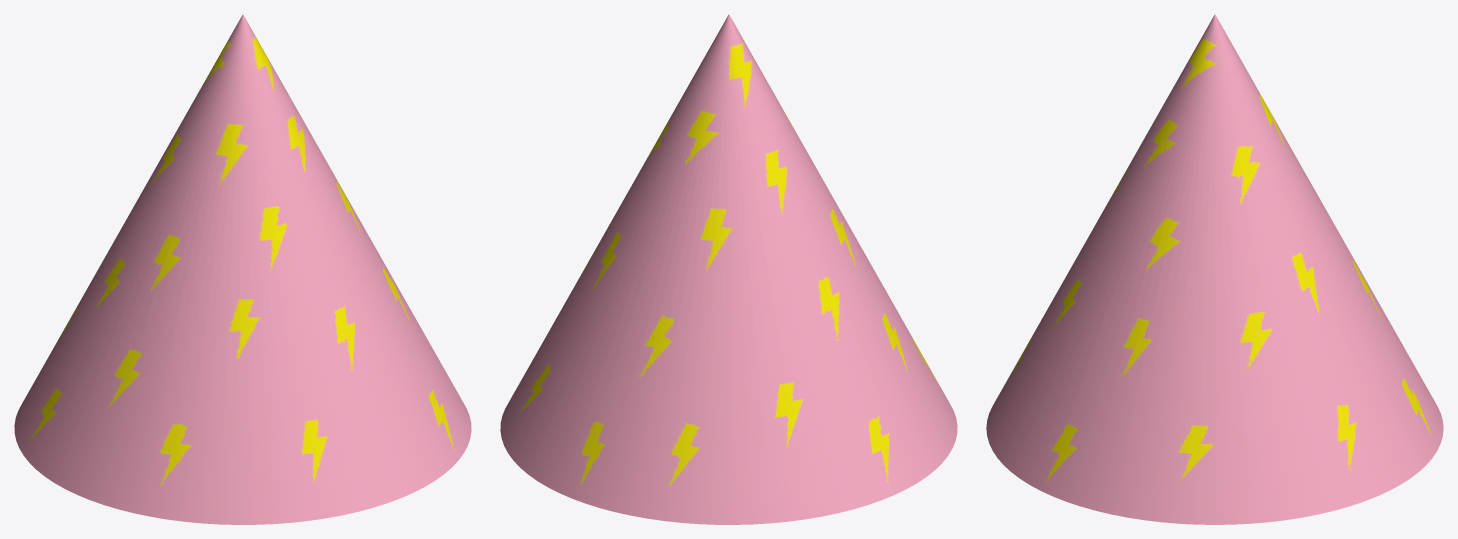
3 views of the same model, side by side, from view 1: azimuth 30°, elevation 25°; view 2: azimuth 150°, elevation 25°; view 3: azimuth 270°, elevation 25° (orthographic).
Visible parts, largest first — view 1: Object_5; view 2: Object_5; view 3: Object_5.
Part boxes in pixels (left/top/right/bottom): Object_5: left=14, top=14, right=471, bottom=524; Object_5: left=500, top=14, right=957, bottom=524; Object_5: left=986, top=14, right=1443, bottom=524.
Bounding box in the file's own units: 0.4594 × 0.4594 × 0.4594.
1 material, 1 textured.
